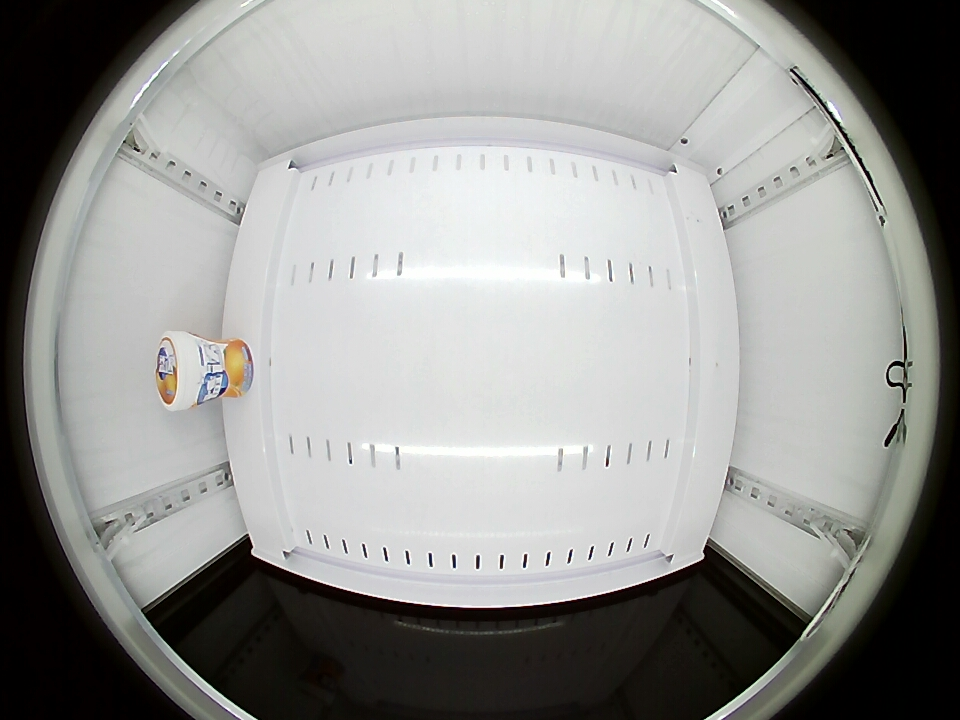yida: (155, 330, 210, 411)
